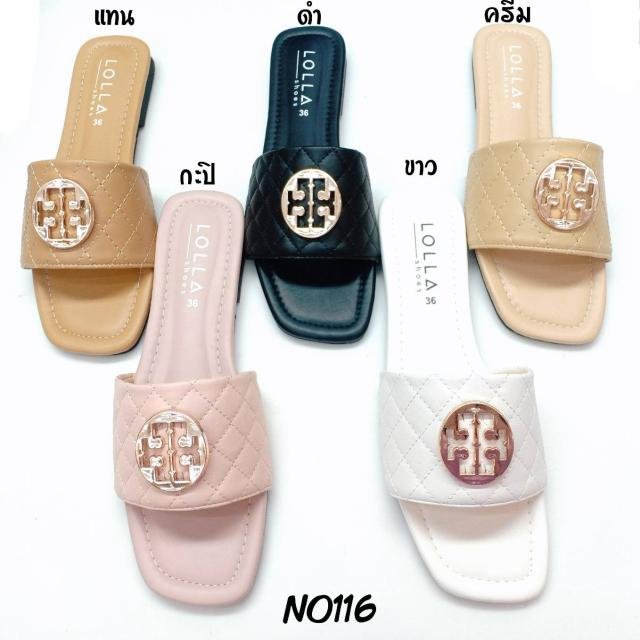black: (247, 28, 370, 349)
cream: (456, 21, 610, 347)
kapi: (118, 193, 283, 615)
tan: (29, 43, 152, 360)
white: (378, 204, 548, 596)
